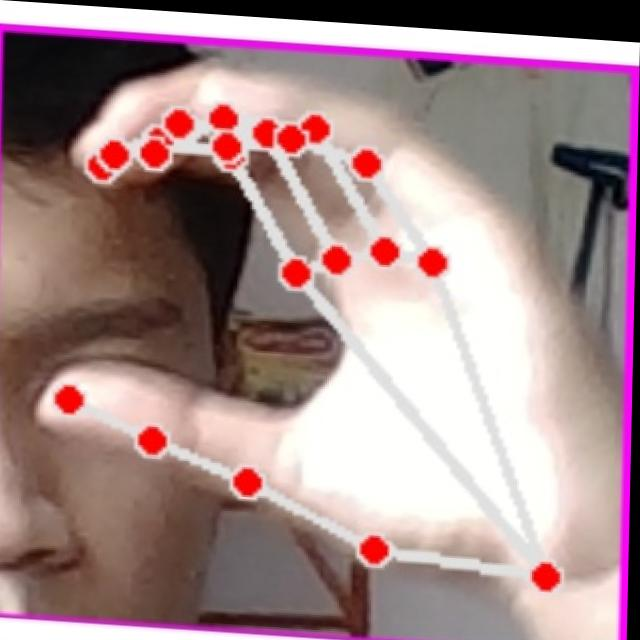C: (29, 33, 627, 623)
